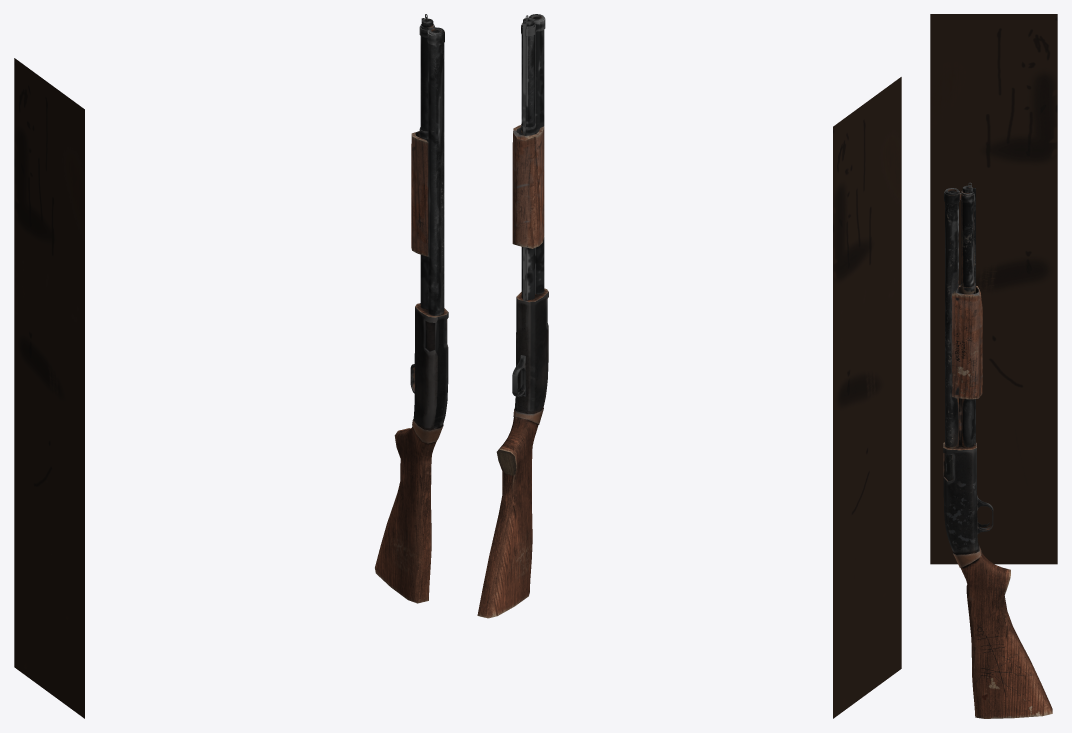
File: Shotgun2.obj
3 renders of one model, left to right at view 1: azimuth 30°, elevation 25°; view 2: azimuth 150°, elevation 25°; view 3: azimuth 270°, elevation 25°, orthographic. The views are drawn at different scales.
Parts seen in each view (by area): view 1: Plane001, Box001, Tube001, Tube002, Cylinder001; view 2: Plane001, Box001, Tube002, Cylinder001, Tube001; view 3: Plane001, Box001, Tube002, Tube001, Cylinder001, Box003.
Part boxes in pixels (x1,y1,x2,y2): Plane001: [14, 58, 84, 718]; Box001: [375, 303, 448, 603]; Tube001: [428, 27, 444, 315]; Tube002: [411, 131, 428, 256]; Cylinder001: [420, 18, 434, 309]; Plane001: [833, 77, 901, 718]; Box001: [477, 288, 548, 618]; Tube002: [512, 125, 544, 248]; Cylinder001: [521, 17, 534, 299]; Tube001: [529, 14, 544, 294]; Plane001: [930, 14, 1057, 564]; Box001: [943, 442, 1052, 718]; Tube002: [952, 285, 982, 399]; Tube001: [945, 188, 958, 448]; Cylinder001: [961, 185, 973, 447]; Box003: [972, 188, 975, 445].
Size of the model in its own units: 70.44 by 109 by 22.83.
